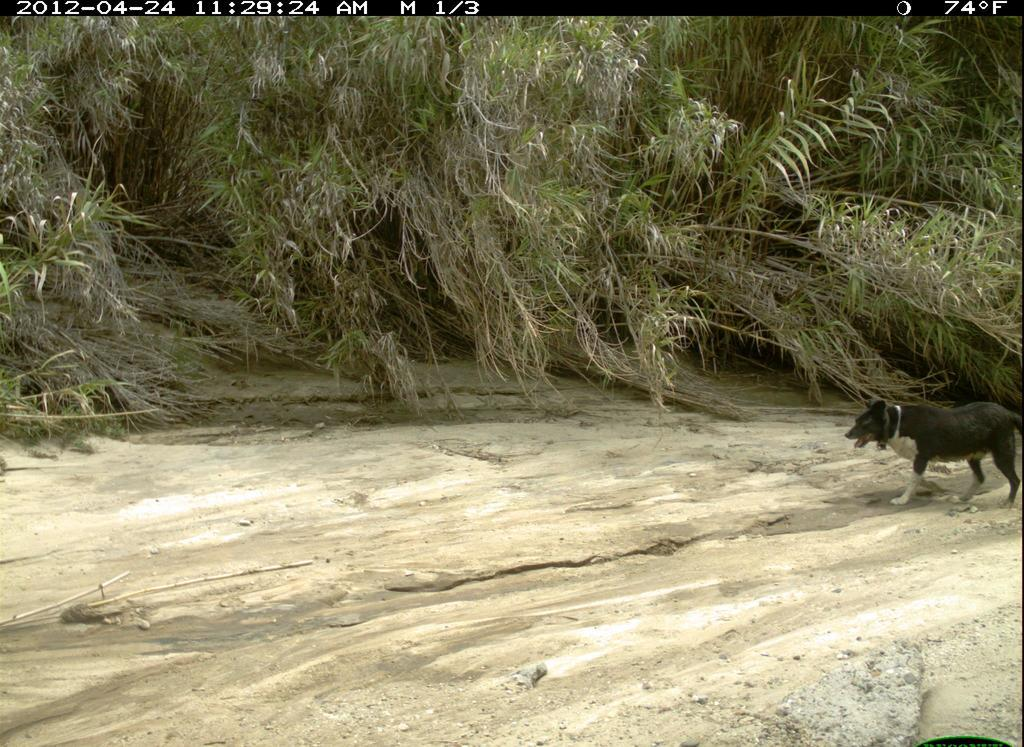dog: (843, 390, 1021, 516)
